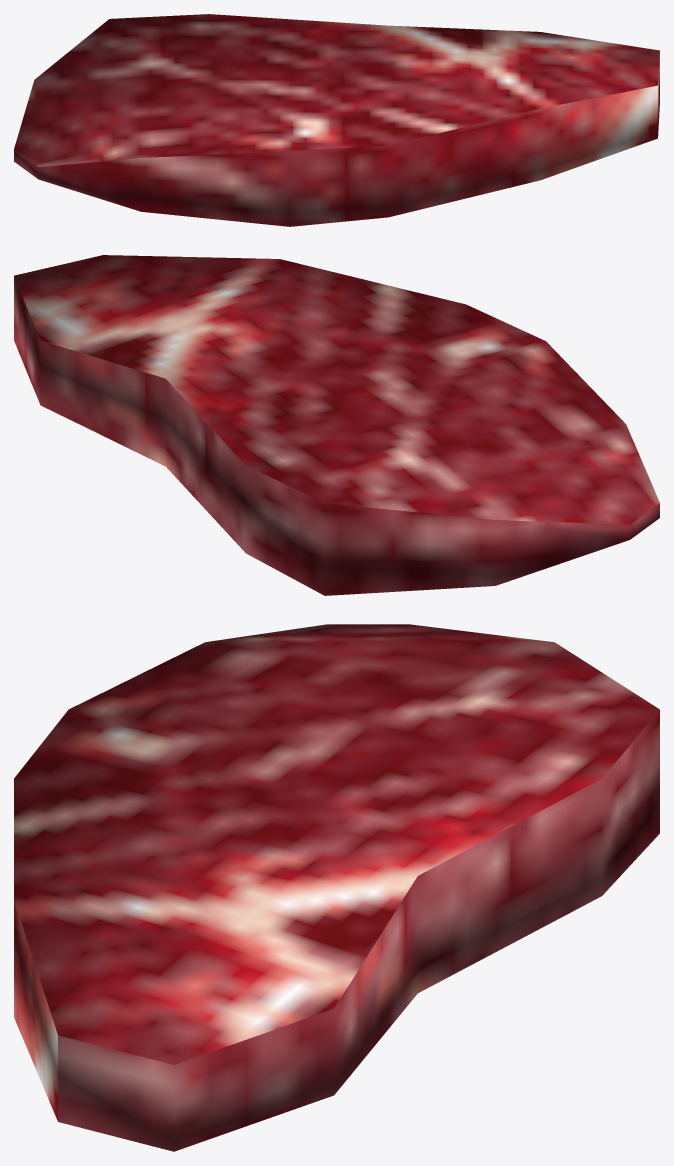
Rendered from meat.fbx.
3 views of the same model, one above another, from view 1: azimuth 30°, elevation 25°; view 2: azimuth 150°, elevation 25°; view 3: azimuth 270°, elevation 25° (orthographic). The views are drawn at different scales.
Visible parts, largest first — view 1: Cube; view 2: Cube; view 3: Cube.
Boxes of the visible parts, x1=… form: Cube: x1=14, y1=14, x2=659, y2=226; Cube: x1=14, y1=255, x2=659, y2=595; Cube: x1=14, y1=624, x2=659, y2=1151.
Bounding box in the file's own units: 162 × 20.45 × 96.59.
1 material, 1 textured.
